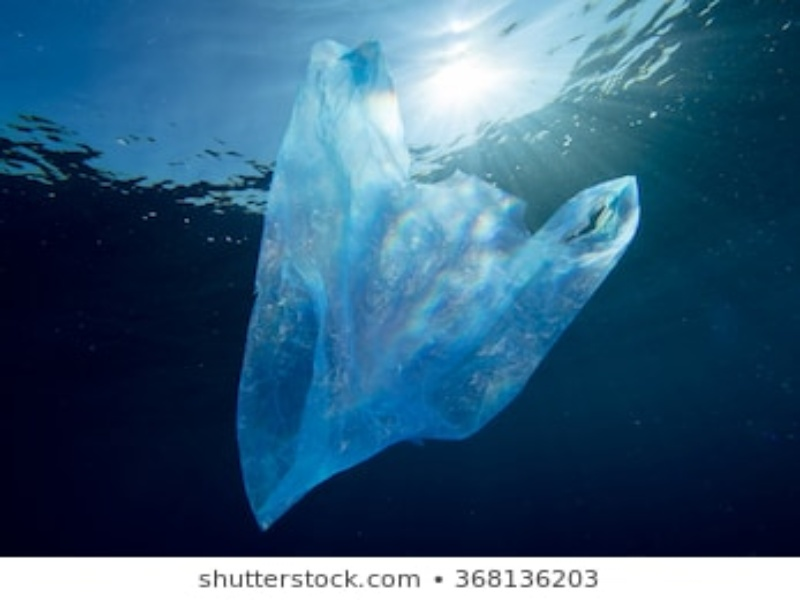plastic-bag: (231, 37, 644, 532)
